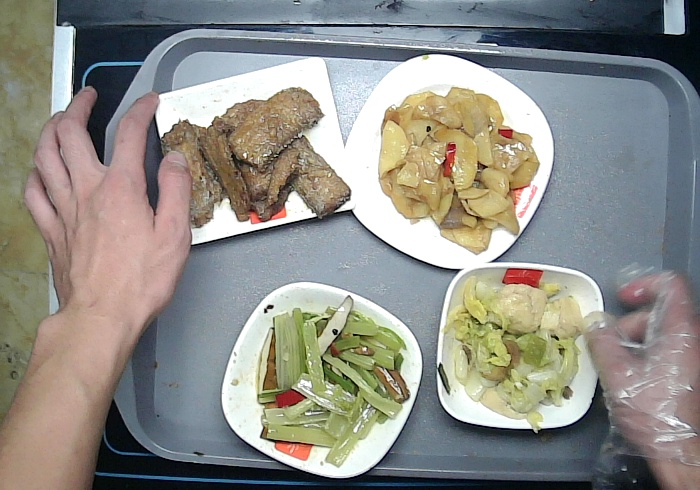SHKJ-Bai_Se_Cai_Die: (219, 281, 425, 478)
SHKJ-Bai_Se_Si_Fang_Cai_Die: (343, 54, 554, 273)
SHKJ-Bai_Se_Xiao_Fang_Die: (437, 262, 605, 433)
SHKJ-Si_Fang_Min: (153, 57, 355, 249)
